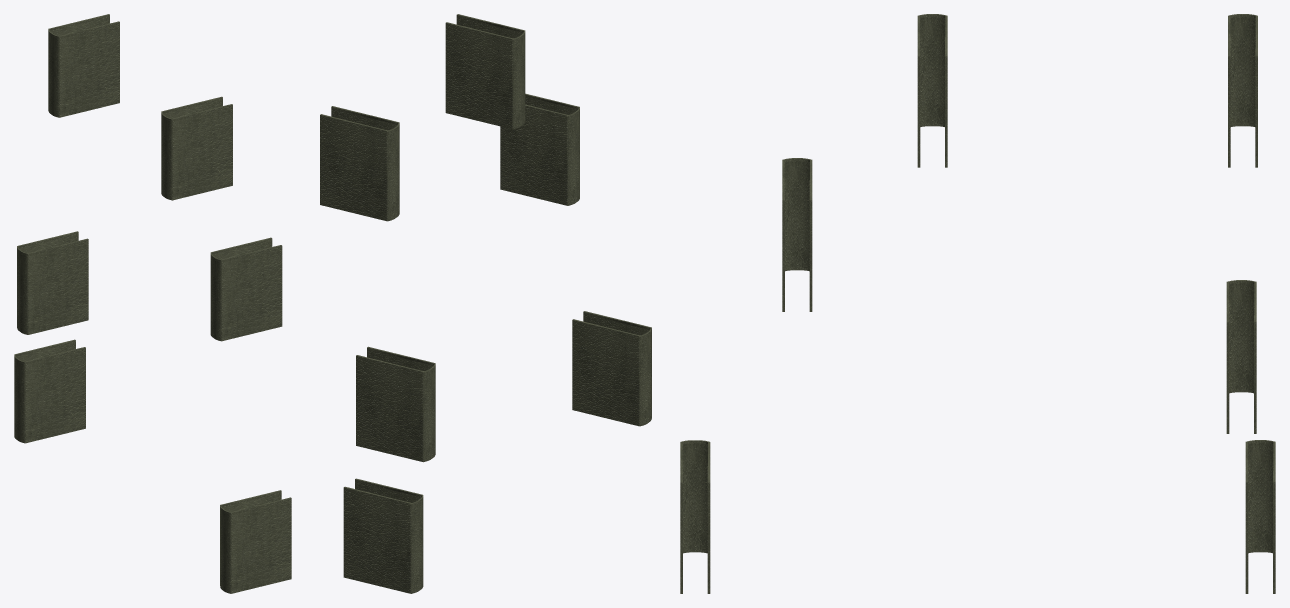
Rendered from book002Scaffale.fbx.
The picture shows the model from 3 angles, left to right: view 1: azimuth 30°, elevation 25°; view 2: azimuth 150°, elevation 25°; view 3: azimuth 270°, elevation 25°; orthographic projection. The views are drawn at different scales.
Visible parts, largest first — view 1: Cube.056_book.002_0; view 2: Cube.056_book.002_0; view 3: Cube.056_book.002_0.
Part boxes in pixels (x1,y1,x2,y2): Cube.056_book.002_0: (14, 14, 291, 593); Cube.056_book.002_0: (320, 14, 651, 593); Cube.056_book.002_0: (680, 14, 1275, 593).
Bounding box in the file's own units: 42.86 × 174 × 169.
